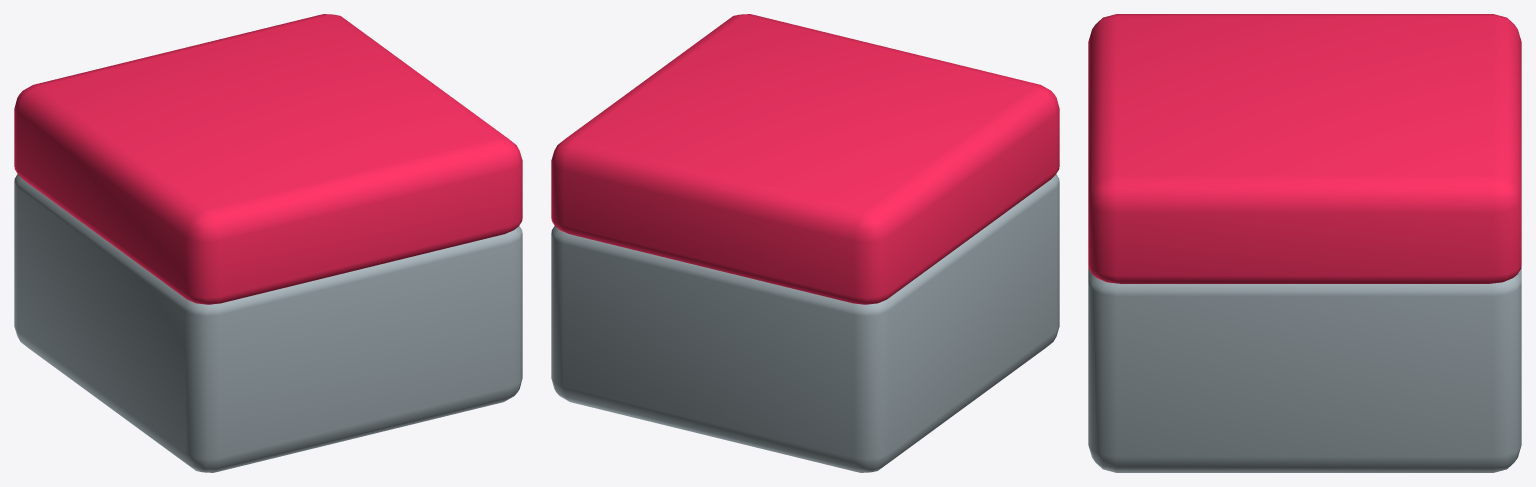
File: tileMedium_teamRed-col.glb
3 views of the same model, side by side, from view 1: azimuth 30°, elevation 25°; view 2: azimuth 150°, elevation 25°; view 3: azimuth 270°, elevation 25° (orthographic). The views are drawn at different scales.
Parts seen in each view (by area): view 1: tileMedium_teamRed-col; view 2: tileMedium_teamRed-col; view 3: tileMedium_teamRed-col.
Part boxes in pixels (left/top/right/bottom): tileMedium_teamRed-col: left=14, top=14, right=522, bottom=472; tileMedium_teamRed-col: left=551, top=14, right=1059, bottom=472; tileMedium_teamRed-col: left=1088, top=14, right=1521, bottom=472.
Bounding box in the file's own units: 2 × 1.5 × 2.
